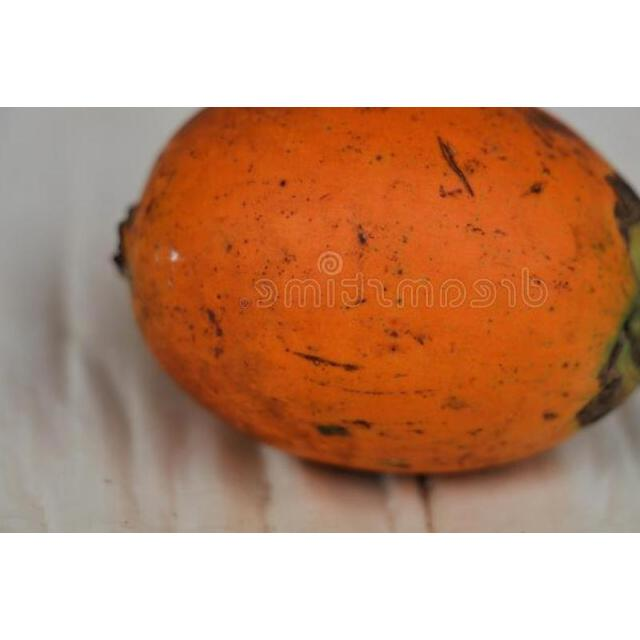good: (116, 107, 639, 480)
